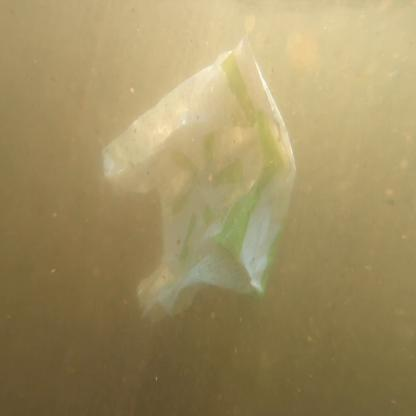Rác: (108, 41, 296, 323)
